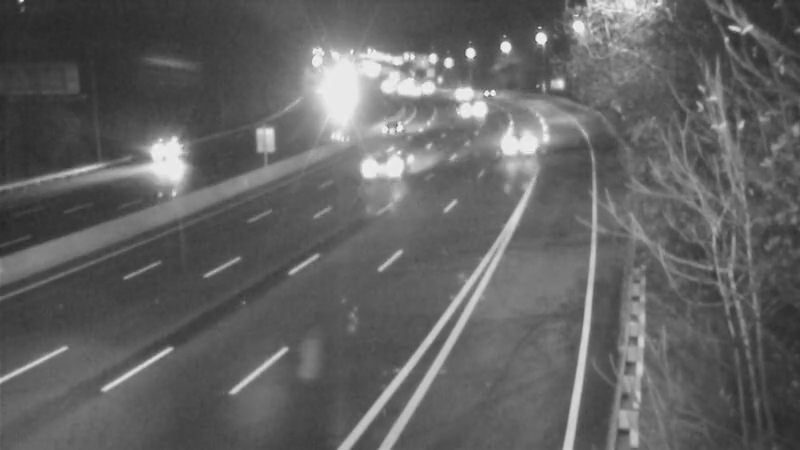vehicle: (345, 114, 425, 194), (123, 114, 203, 194), (466, 66, 516, 116), (438, 71, 488, 121), (442, 83, 492, 133), (373, 98, 423, 148), (494, 115, 544, 165)
